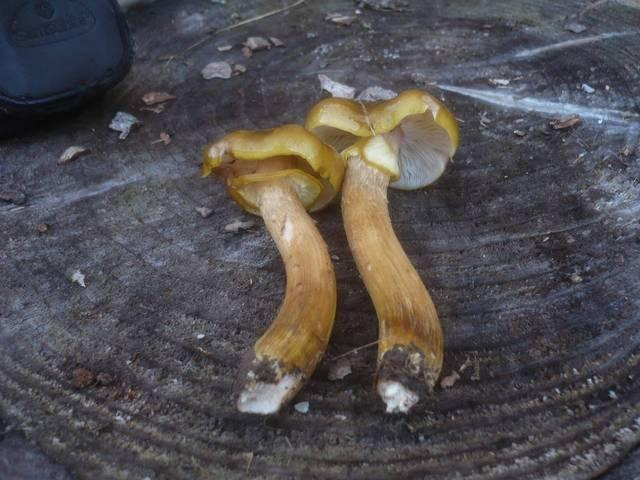Edible Mushroom: (304, 87, 460, 415), (199, 122, 344, 415)
